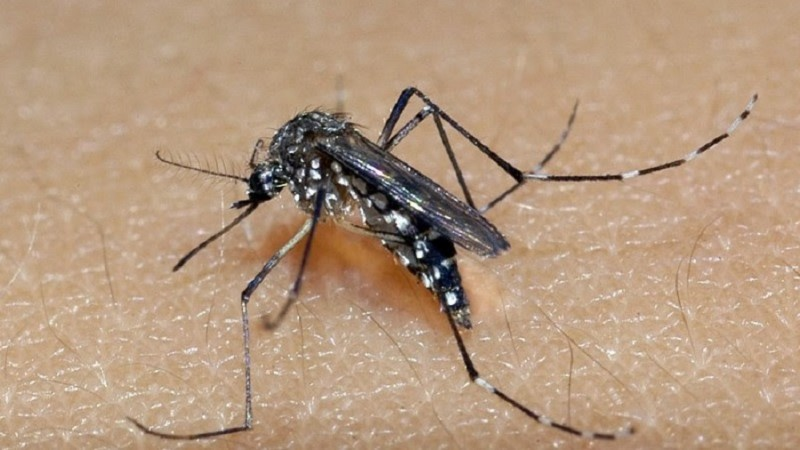dengue_mosquito: (155, 86, 563, 431)
